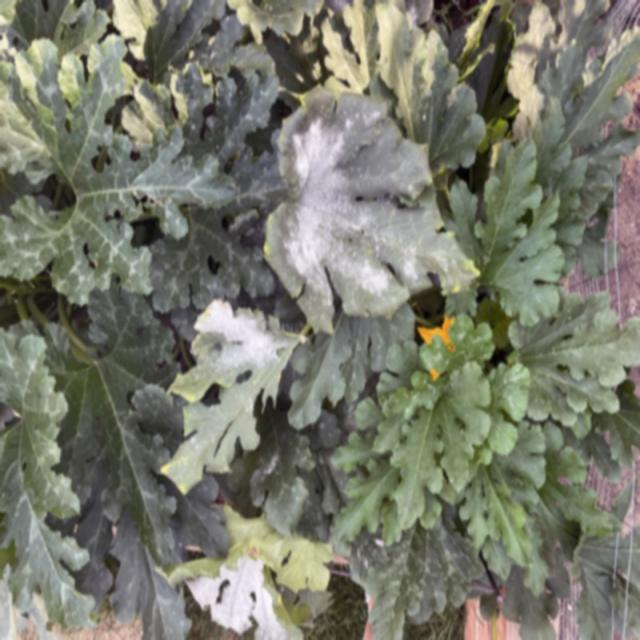Powdery Mildew: (262, 86, 479, 334)
